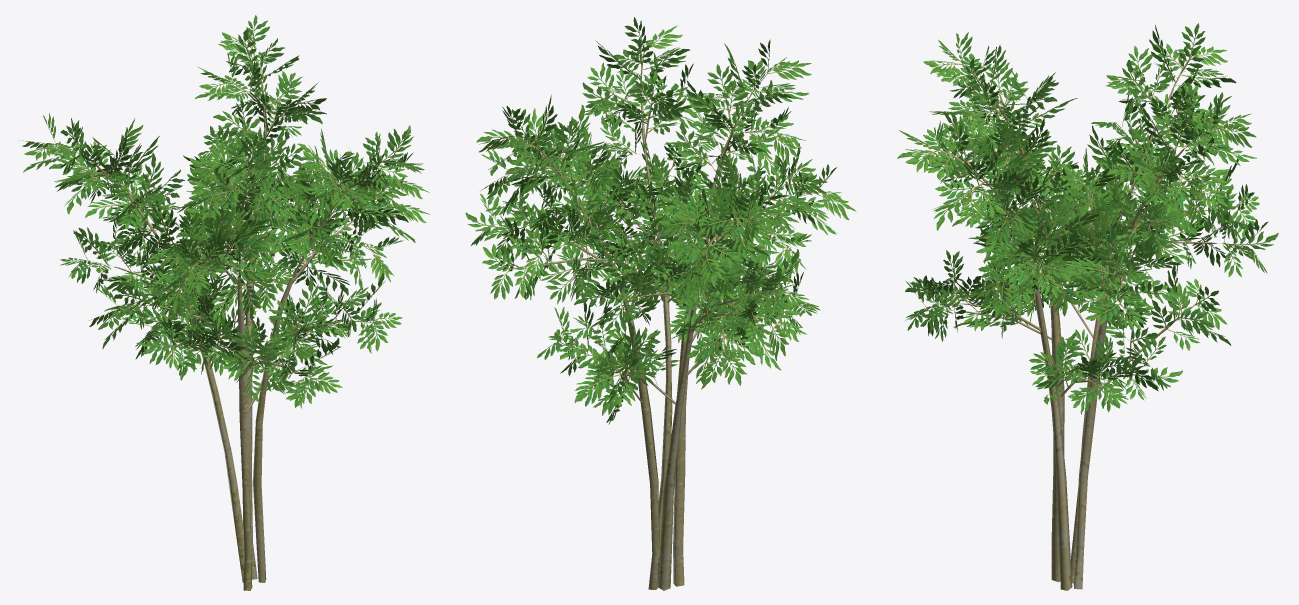
File: MS_ShrubTree01b.fbx
3 renders of one model, left to right at view 1: azimuth 30°, elevation 25°; view 2: azimuth 150°, elevation 25°; view 3: azimuth 270°, elevation 25°, orthographic. The views are drawn at different scales.
Parts seen in each view (by area): view 1: Leaves, TreeBare; view 2: Leaves, TreeBare; view 3: Leaves, TreeBare.
Part boxes in pixels (box(x1,y1,x2,y2)): Leaves: box(20, 15, 430, 408); TreeBare: box(92, 81, 367, 590); Leaves: box(465, 17, 856, 424); TreeBare: box(524, 88, 775, 590); Leaves: box(897, 23, 1278, 414); TreeBare: box(964, 88, 1216, 590).
Bounding box in the file's own units: 408 × 603 × 403.
